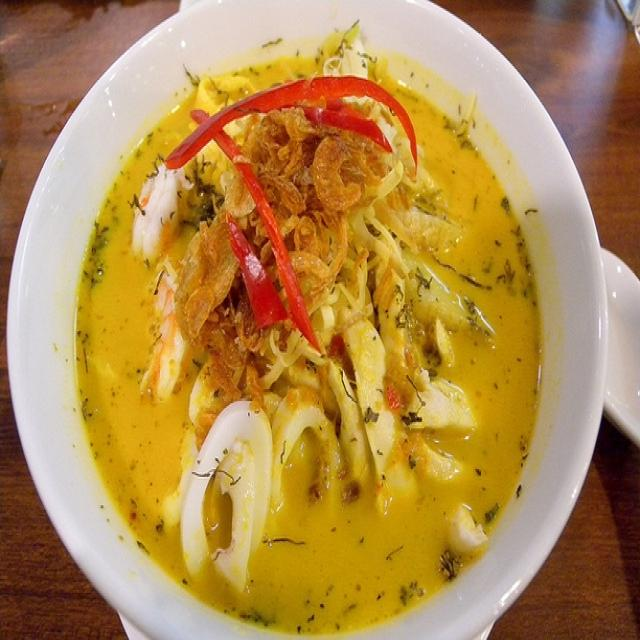面条主食: (14, 17, 616, 637)
